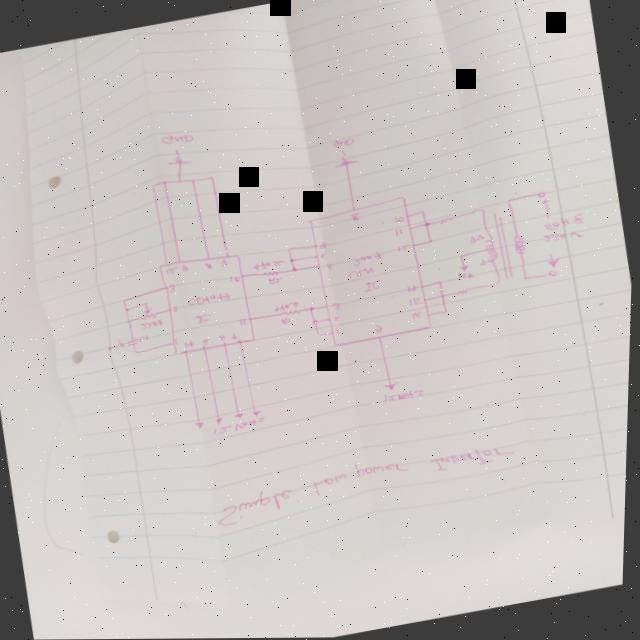capacitor: (126, 337, 139, 347)
ground: (164, 146, 192, 168), (330, 147, 359, 168)
junction: (473, 206, 487, 214), (492, 280, 503, 287), (505, 197, 513, 206), (417, 208, 427, 215), (422, 221, 431, 227), (132, 349, 141, 355), (308, 305, 315, 312), (457, 253, 465, 259), (439, 293, 448, 298), (291, 266, 298, 272), (426, 239, 434, 244), (121, 298, 129, 303), (150, 183, 156, 189), (312, 319, 319, 324), (436, 280, 443, 285), (443, 308, 450, 313), (522, 275, 529, 280), (126, 319, 133, 324), (124, 307, 131, 312), (143, 300, 150, 305), (288, 257, 295, 262), (287, 246, 294, 251), (162, 179, 168, 184), (190, 178, 195, 183), (317, 333, 322, 338), (177, 178, 181, 182), (209, 176, 213, 180)
resistor: (135, 306, 162, 322), (436, 214, 460, 226), (278, 308, 303, 317), (260, 269, 280, 278), (454, 287, 474, 296)
source: (383, 381, 403, 392), (195, 420, 206, 430), (215, 416, 226, 426), (252, 409, 264, 417), (458, 264, 470, 272), (235, 412, 246, 420)
terminal: (546, 269, 559, 277), (535, 190, 546, 199)
text: (212, 434, 521, 528), (212, 415, 268, 436), (542, 213, 585, 232), (541, 227, 585, 244), (186, 291, 232, 307), (384, 388, 425, 404), (159, 130, 194, 147), (351, 249, 385, 266), (251, 256, 287, 272), (347, 266, 375, 280), (272, 300, 301, 313), (329, 136, 355, 149), (140, 317, 166, 330), (362, 278, 384, 292), (107, 337, 127, 351), (194, 313, 214, 325), (267, 275, 285, 286), (469, 233, 486, 244), (456, 271, 475, 280), (397, 243, 413, 253), (409, 296, 423, 307), (478, 257, 492, 267), (165, 265, 179, 275), (411, 310, 423, 321), (228, 274, 241, 284), (219, 257, 232, 267), (406, 283, 418, 293), (318, 241, 329, 251), (330, 301, 341, 311), (184, 338, 195, 348), (167, 282, 177, 293), (203, 261, 214, 271), (280, 316, 292, 325), (393, 215, 405, 224), (350, 212, 360, 221), (238, 317, 248, 326), (180, 263, 190, 272), (138, 334, 149, 342), (394, 227, 403, 236), (375, 324, 384, 333), (230, 332, 239, 341), (325, 262, 334, 270), (201, 337, 211, 344), (319, 253, 328, 260), (170, 305, 179, 312), (218, 334, 227, 341), (332, 316, 342, 322), (335, 327, 342, 335), (174, 336, 179, 345)
transformer: (477, 209, 532, 283)
